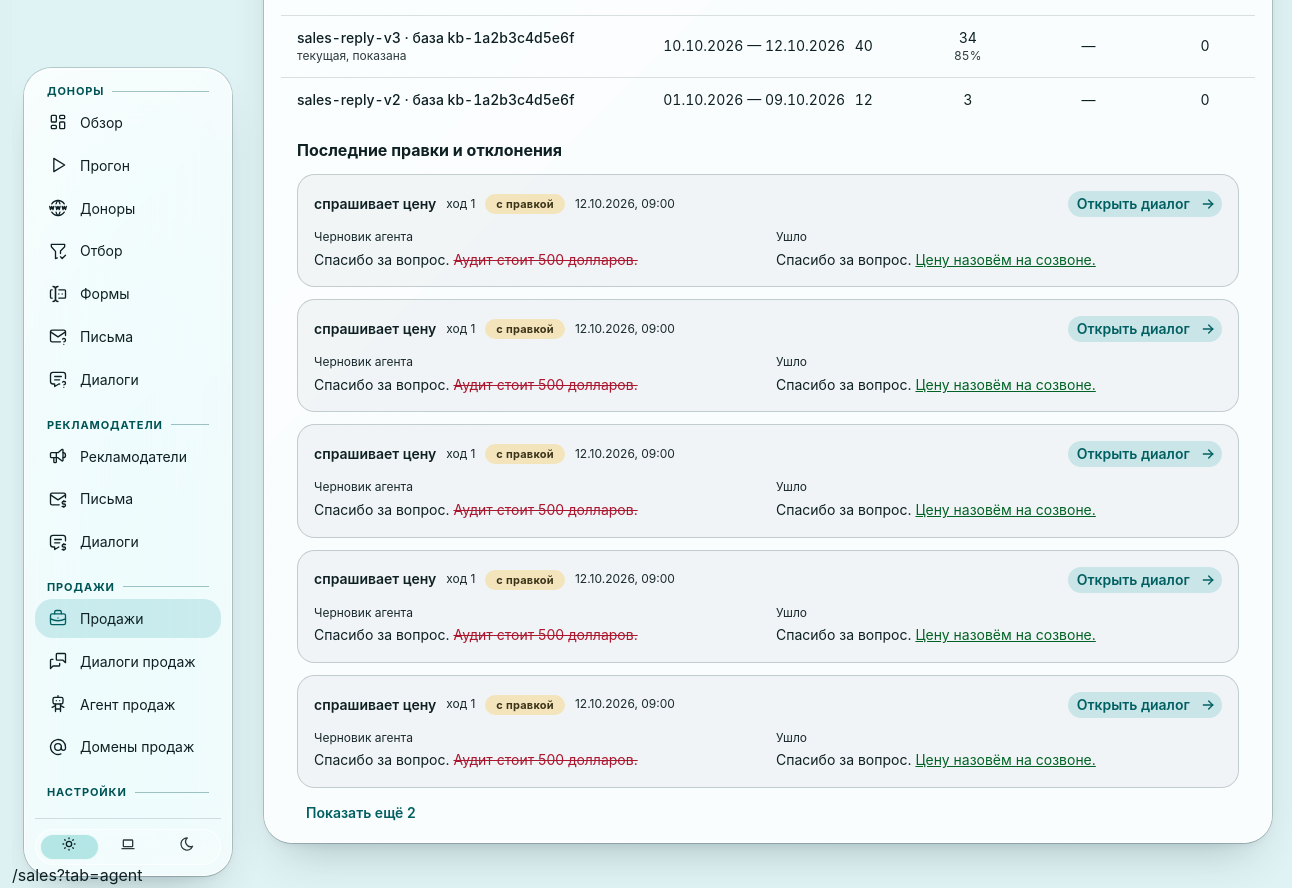
Test: продажи: вкладка «Агент: качество» › правок больше пяти — видны пять, остальные — по кнопке с её состоянием
(page scrolled)
Click the button "Показать ещё 2".
click(361, 813)  # box [297,800,425,826]
(page scrolled)
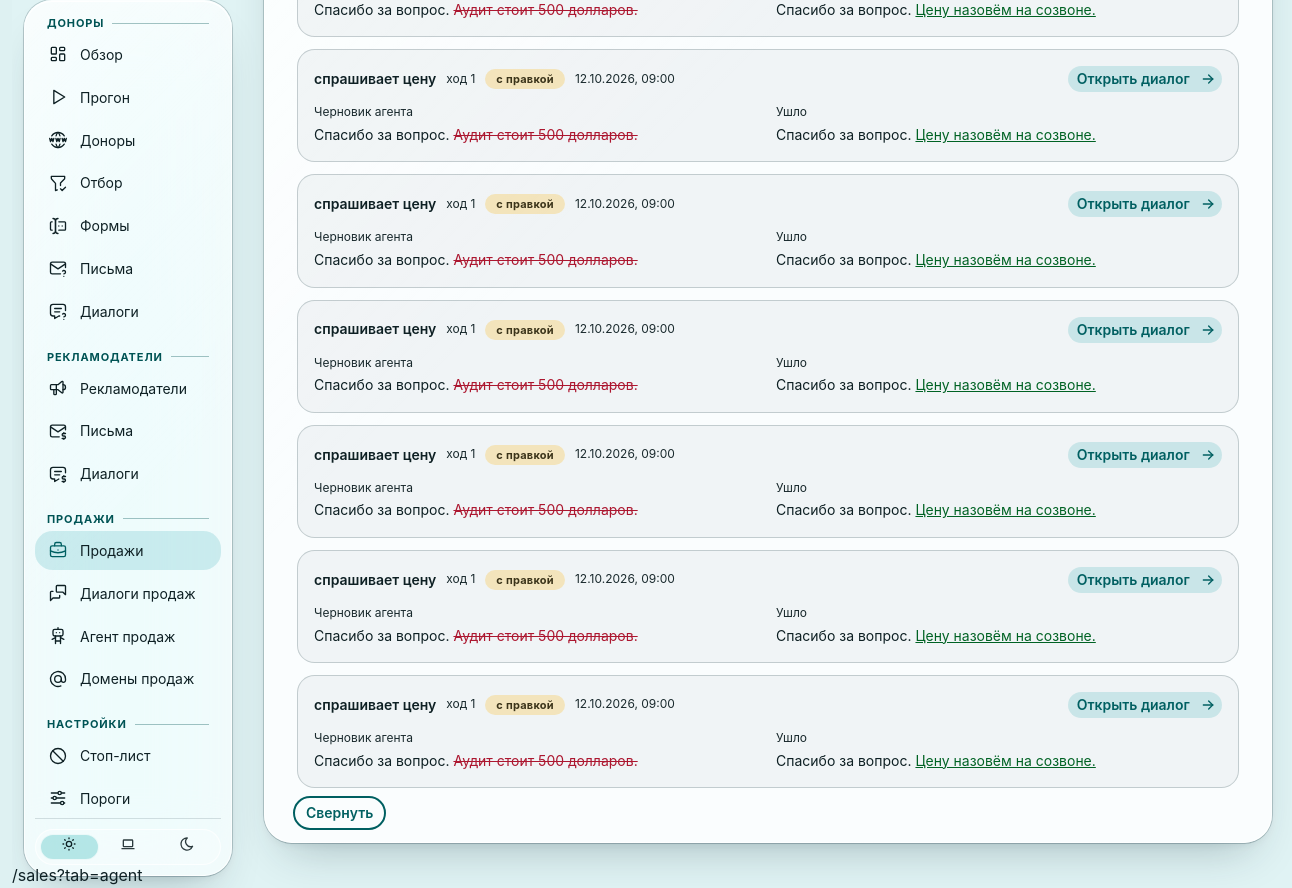
Check: the button "Свернуть" is expanded, box [297,800,382,826]
